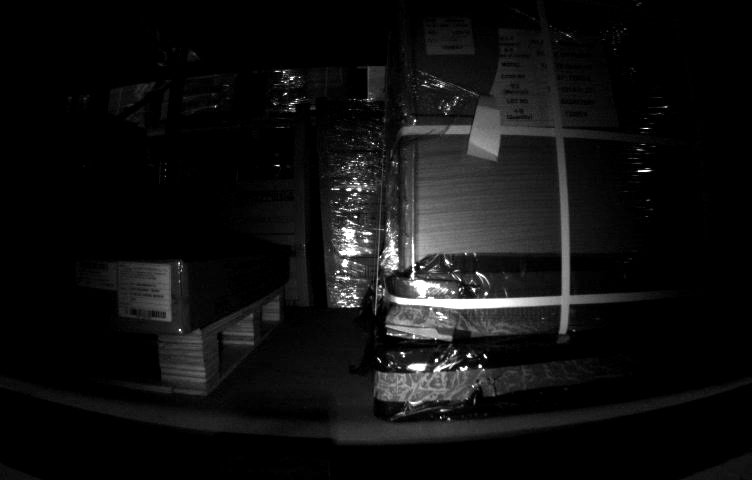True Barcode: (425, 12, 474, 52)
